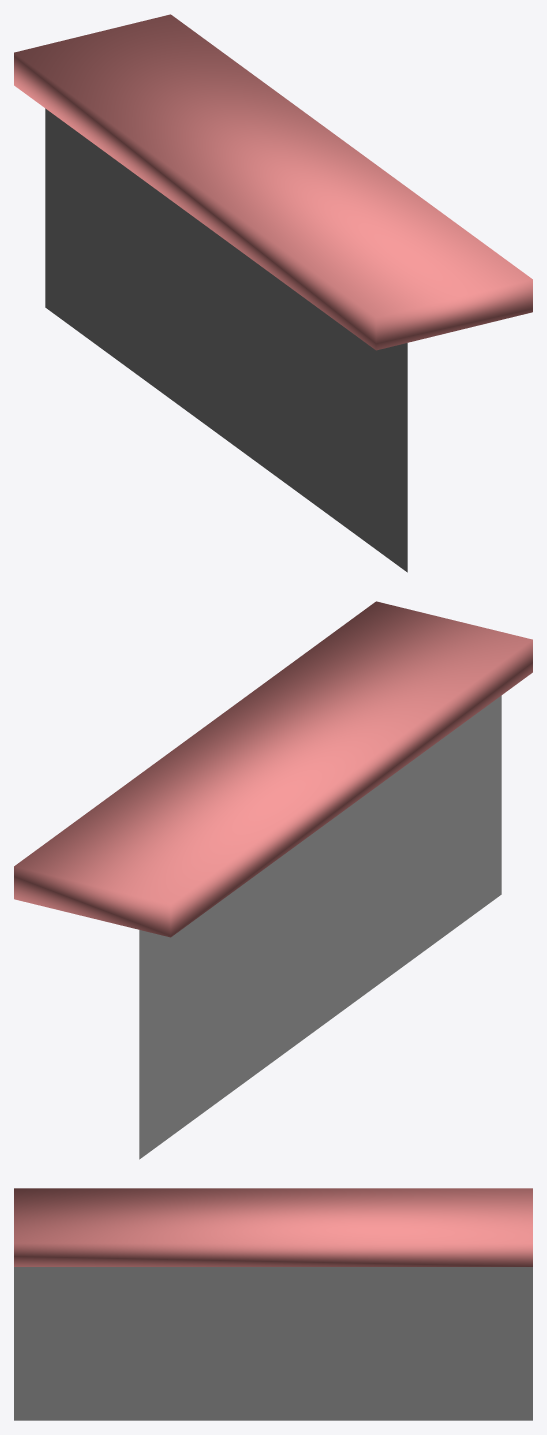
Rendered from SM_wallAttic_02_half.gltf.
The picture shows the model from 3 angles, top to bottom: view 1: azimuth 30°, elevation 25°; view 2: azimuth 150°, elevation 25°; view 3: azimuth 270°, elevation 25°; orthographic projection. The views are drawn at different scales.
Visible parts, largest first — view 1: SM_wallAttic_02_half; view 2: SM_wallAttic_02_half; view 3: SM_wallAttic_02_half.
Part boxes in pixels (left/top/right/bottom): SM_wallAttic_02_half: left=14, top=14, right=532, bottom=572; SM_wallAttic_02_half: left=14, top=601, right=532, bottom=1159; SM_wallAttic_02_half: left=14, top=1188, right=532, bottom=1420.
Bounding box in the file's own units: 0.5 × 0.8 × 2.
